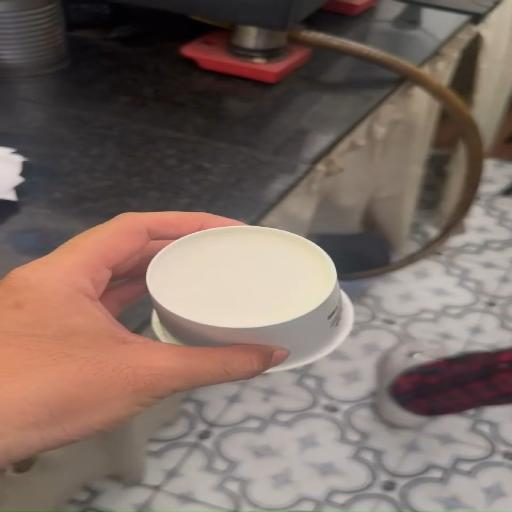Ly_giay: (147, 225, 353, 371)
